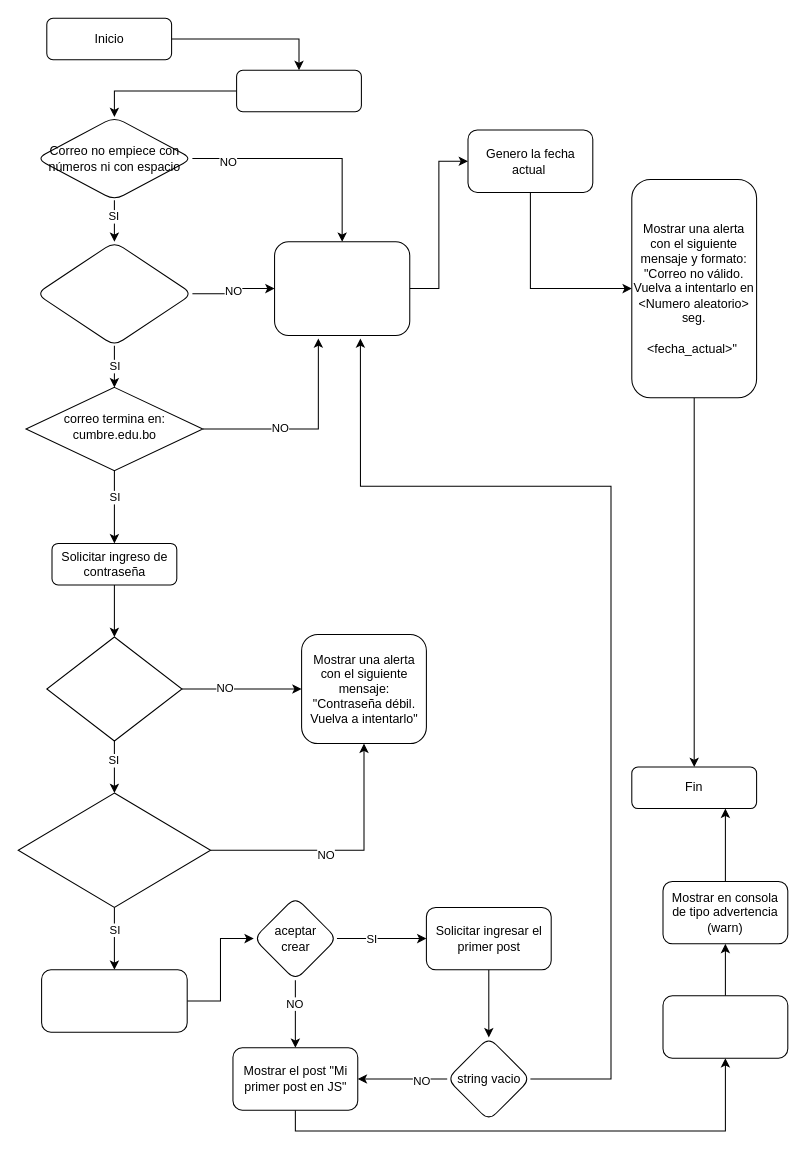
The diagram is 806 pixels wide and 1158 high, and some of its shapes have lost their labels. Each missing label, with the box of its shape:
Dividir cada palabra en array: (662, 995, 788, 1058)
Generar un numero random entre 0 y 10 y adicionar al mensaje: (274, 241, 410, 335)
La contraseña tiene que empezar con el caracter especial de " $* ": (17, 792, 211, 907)
logitud de la contraseña > 8: (46, 636, 182, 741)
permitir mayúsculas y/o minúsculas: (35, 241, 192, 346)
Preguntar al usuario si desea ingresar un post: (41, 969, 187, 1032)
Solicitar ingreso de correo: (236, 69, 361, 112)
